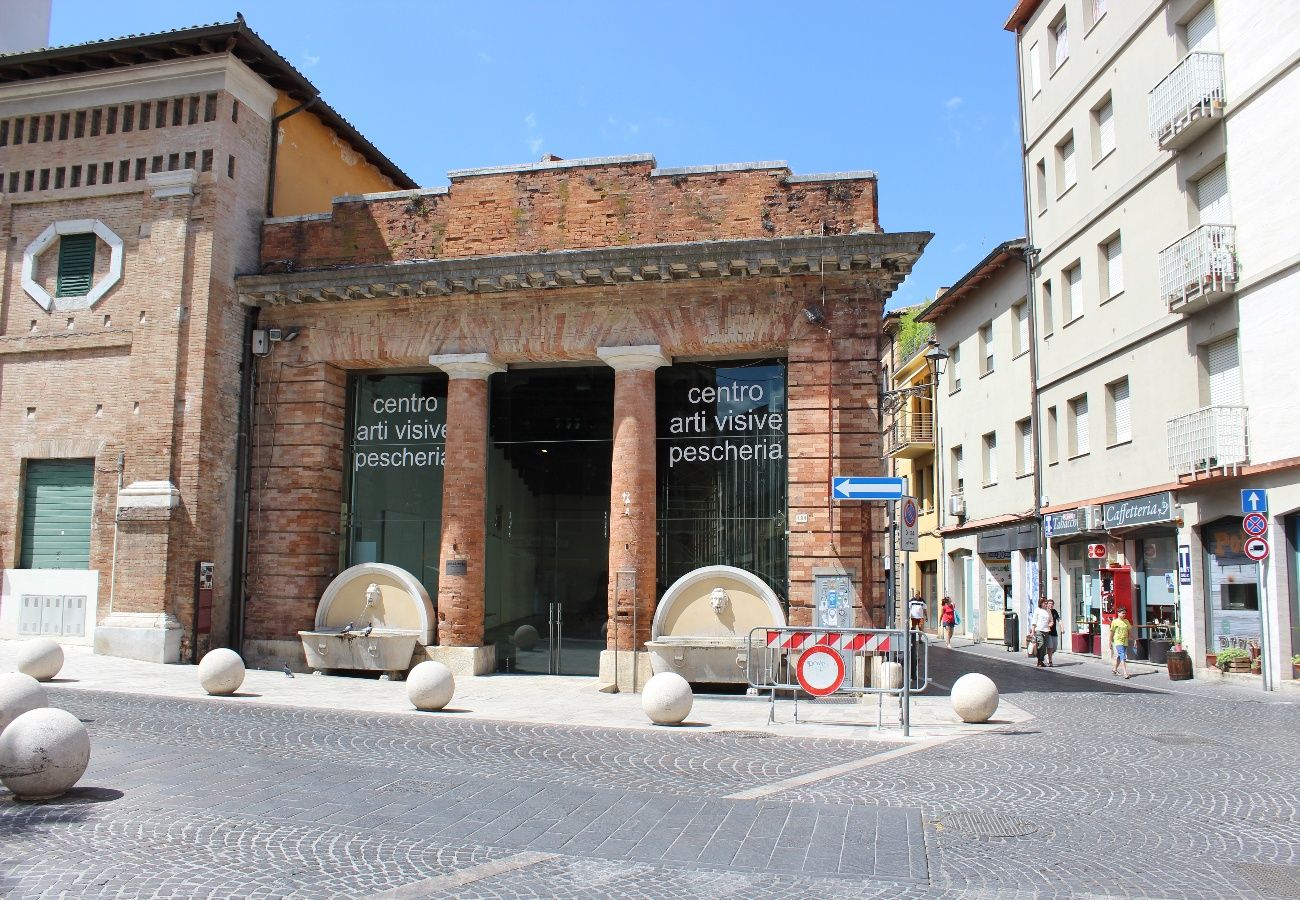Centro Arti Visive Pescheria: (254, 156, 936, 694)
